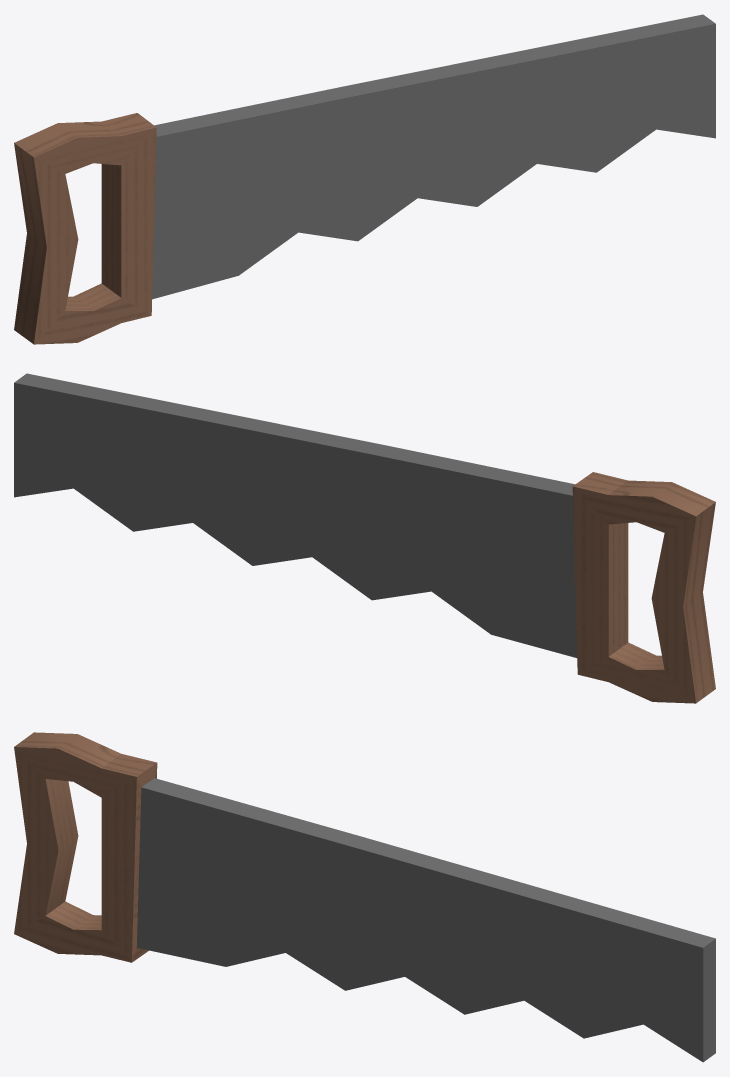
The model's file is Saw.fbx.
3 views of the same model, one above another, from view 1: azimuth 30°, elevation 25°; view 2: azimuth 150°, elevation 25°; view 3: azimuth 330°, elevation 25° (orthographic).
Parts seen in each view (by area): view 1: Saw; view 2: Saw; view 3: Saw.
Boxes of the visible parts, <box> form: Saw: <box>14,14,715,344</box>; Saw: <box>14,373,715,703</box>; Saw: <box>14,732,715,1062</box>.
Bounding box in the file's own units: 222 × 63.48 × 11.15.
